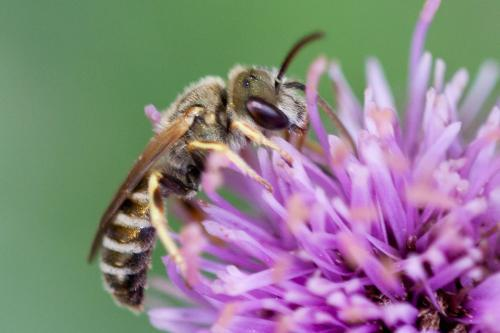Seladonia: (82, 25, 330, 314)
